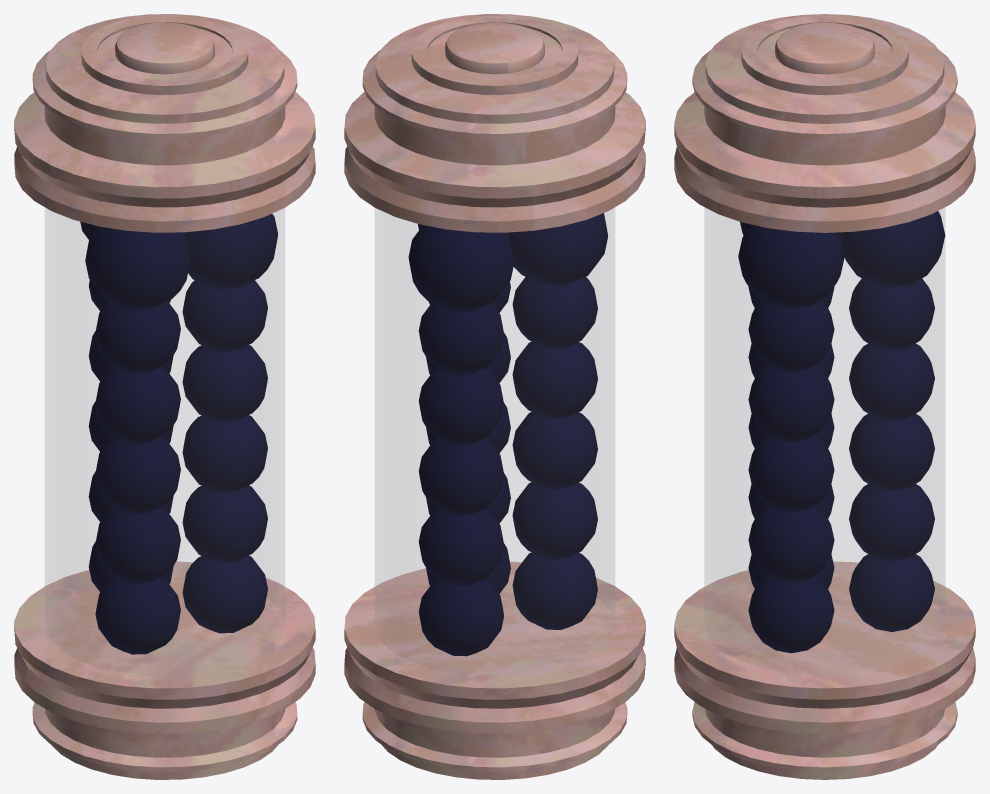
The model's file is TRIGON TOY.glb.
The picture shows the model from 3 angles, left to right: view 1: azimuth 30°, elevation 25°; view 2: azimuth 150°, elevation 25°; view 3: azimuth 270°, elevation 25°; orthographic projection.
Parts seen in each view (by area): view 1: TRIGON TOY; view 2: TRIGON TOY; view 3: TRIGON TOY.
Boxes of the visible parts, x1=… form: TRIGON TOY: x1=14, y1=14, x2=315, y2=779; TRIGON TOY: x1=344, y1=14, x2=645, y2=779; TRIGON TOY: x1=674, y1=14, x2=975, y2=779.
Bounding box in the file's own units: 0.6 × 1.56 × 0.6.
Materials: 3 (1 with a texture image).
